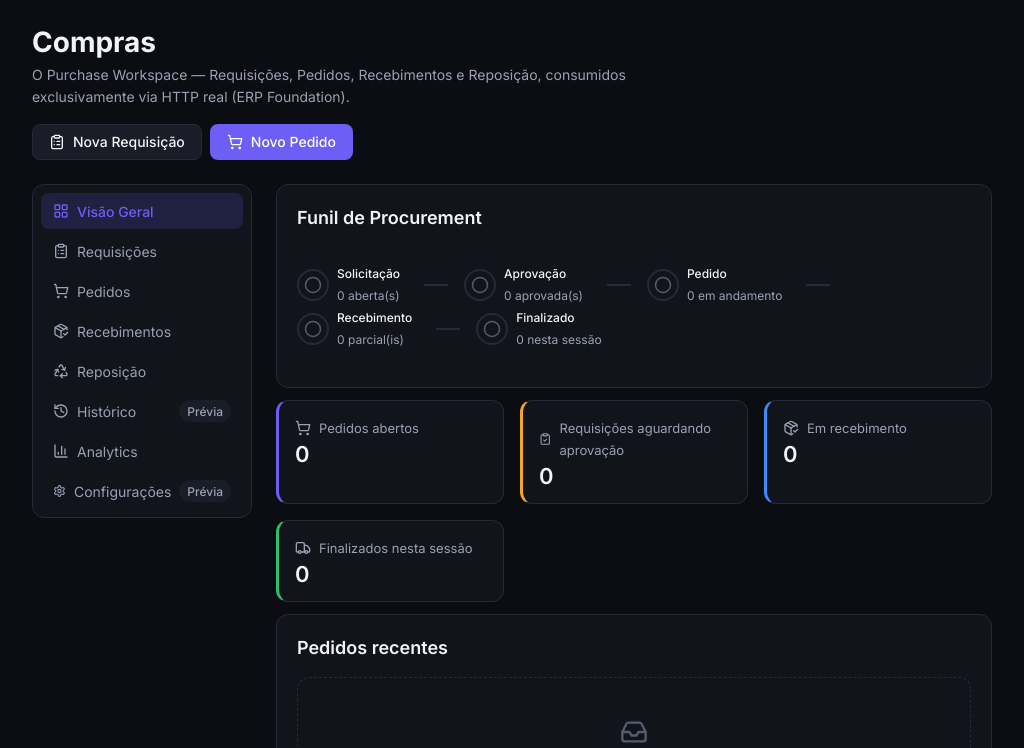
Scenario: PurchasePage — Purchase Workspace por seções (IMP-305) › Reposição: cria uma Reorder Rule, avalia (dispara) e desativa — nenhuma recomendação de IA, apenas o resultado real de evaluateReorderRule
Check: the button "Visão Geral" is shown, box 41,193 -> 243,229
Click the button "Reposição" at (142, 371), box 41,353 -> 243,389
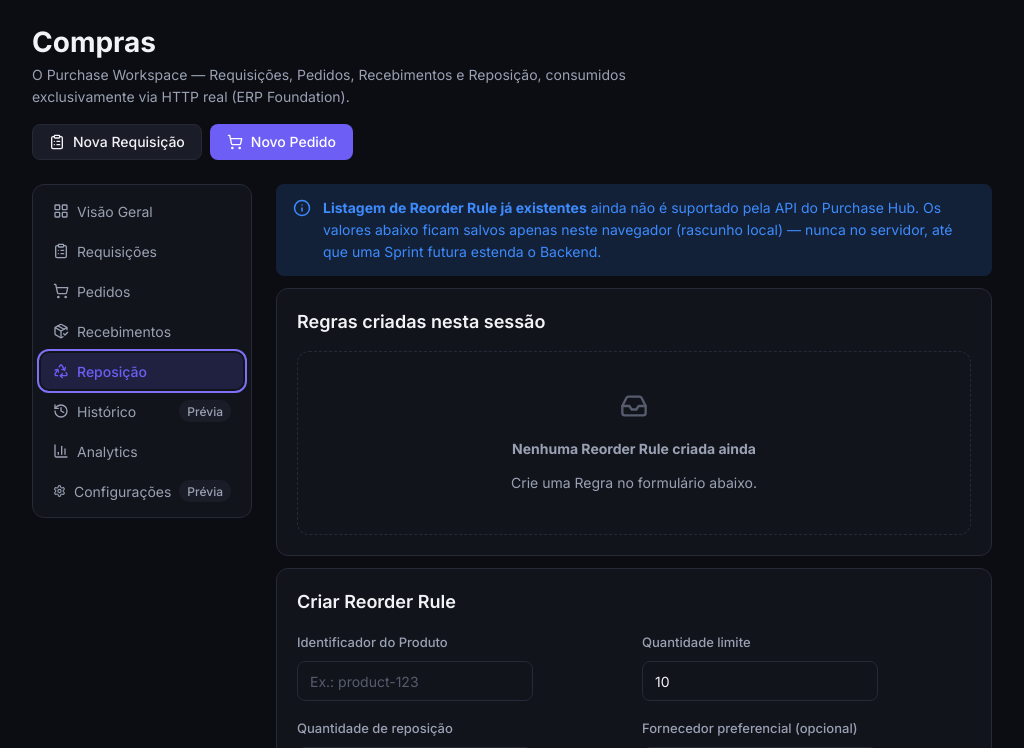
Check: the text "Listagem de Reorder Rule já existentes" is shown, box 323,199 -> 587,216
Type "product-1" into the field labelled "Identificador do Produto" at (415, 681), box 297,661 -> 533,701
(page scrolled)
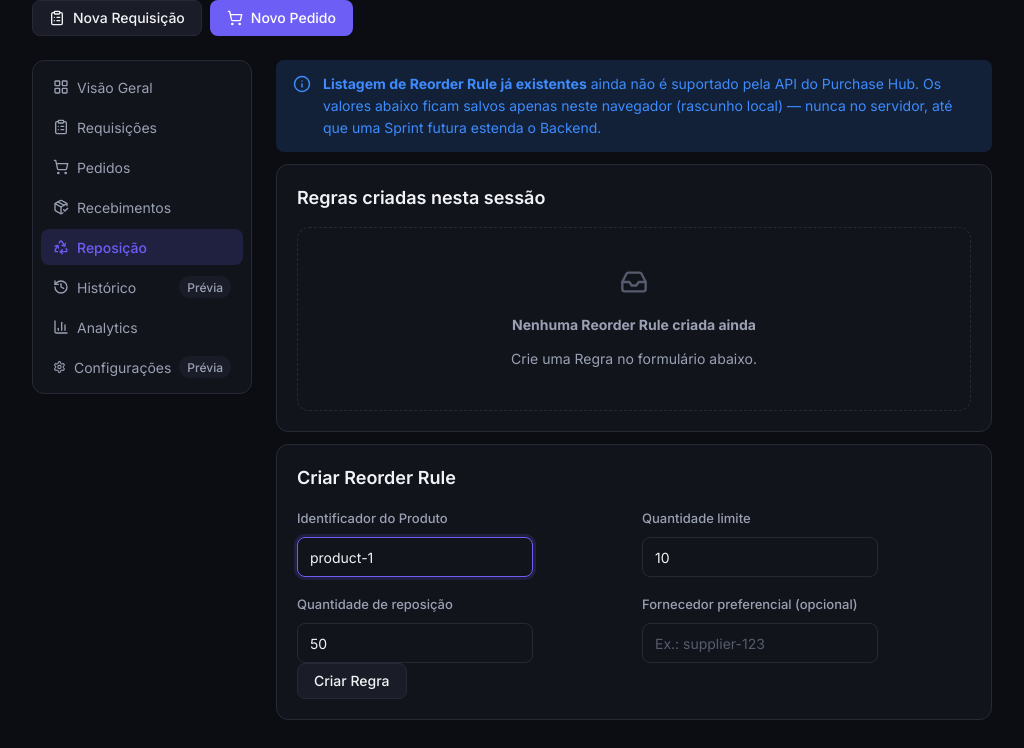
Click the button "Criar Regra" at (352, 681), box 297,663 -> 406,699
(page scrolled)
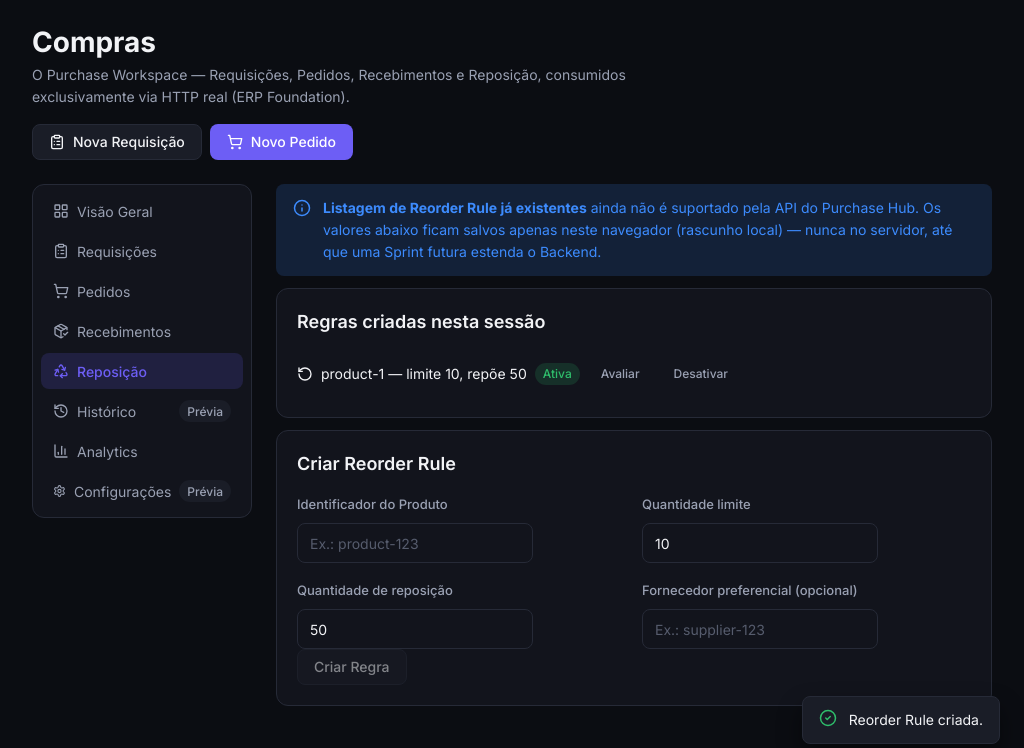
Check: the text "product-1 — limite 10, repõe 50" is shown, box 321,363 -> 527,385
Click the button "Avaliar" at (620, 374), box 588,359 -> 652,389
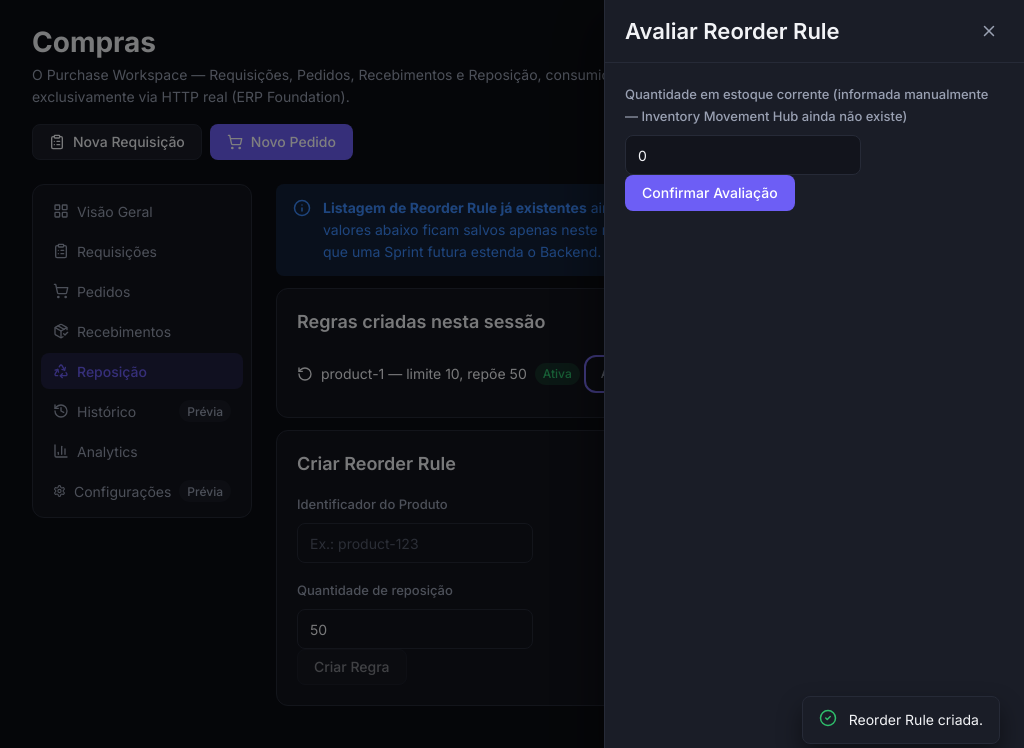
Replace the text in the number field labelled "Quantidade em estoque corrente" with "5" at (743, 155), box 625,135 -> 861,175
Click the button "Confirmar Avaliação" at (710, 193), box 625,175 -> 795,211
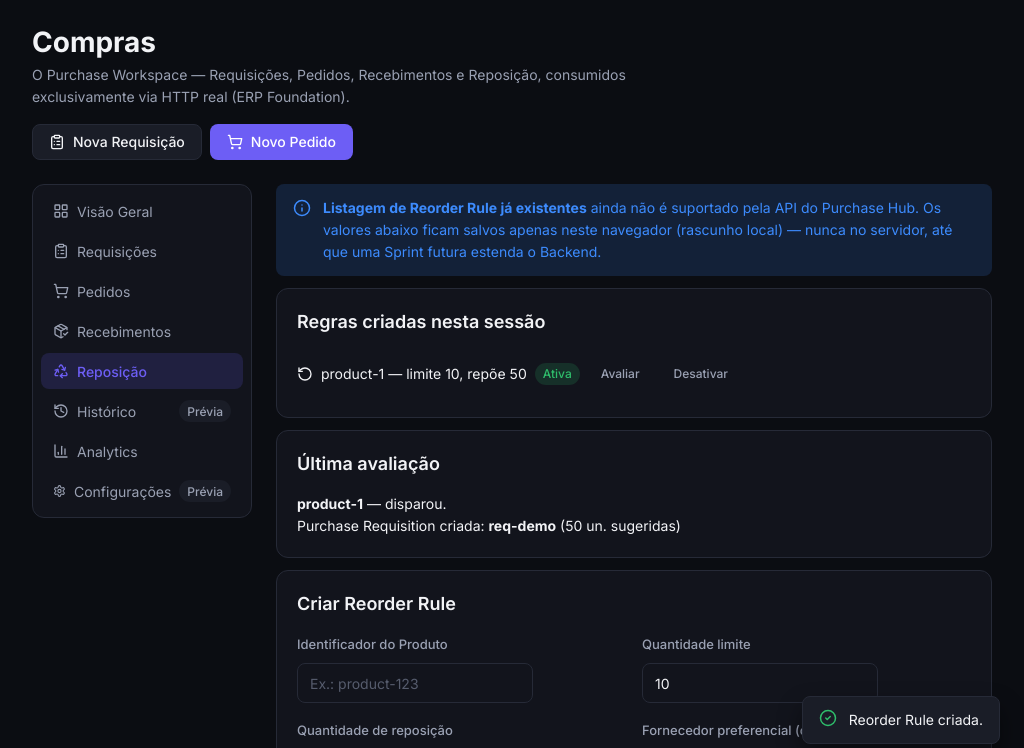
Check: the text "product-1 — disparou." is shown, box 297,495 -> 447,512
Click the button "Desativar" at (701, 374), box 660,359 -> 741,389
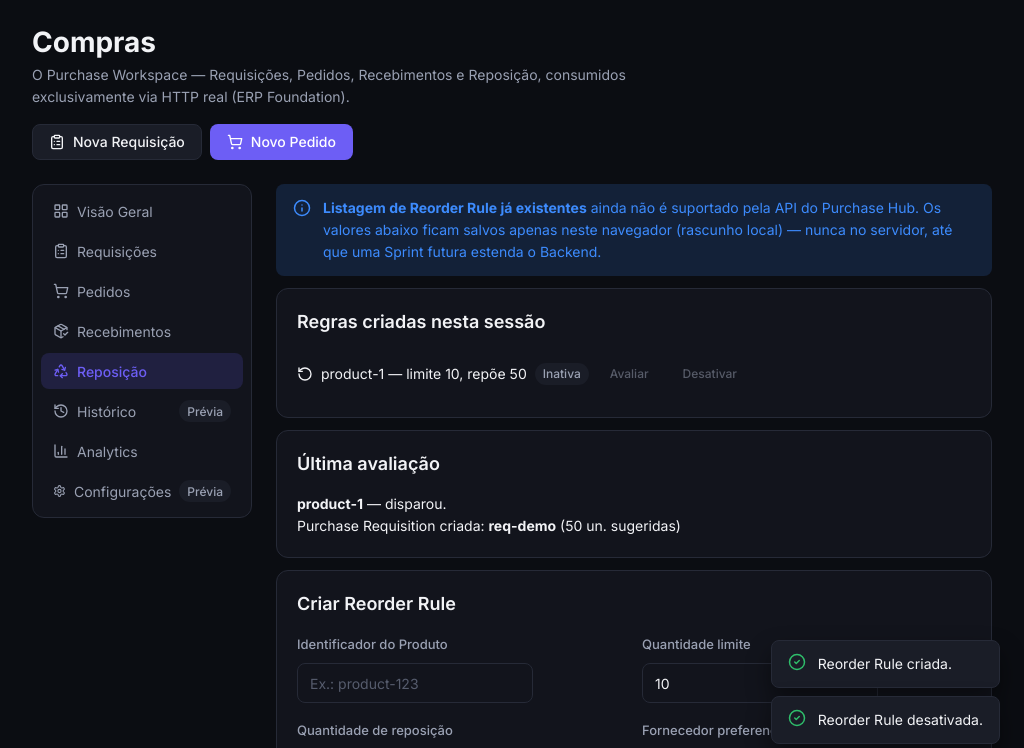
Check: the text "Inativa" is shown, box 535,363 -> 589,385
